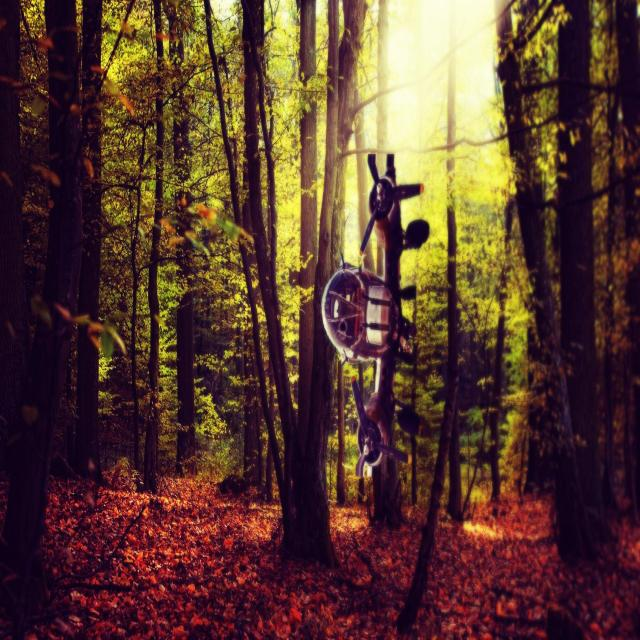airplane: (320, 151, 430, 480)
